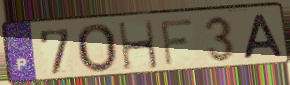3: (203, 14, 237, 65)
7: (38, 27, 72, 77)
A: (241, 13, 286, 62)
F: (158, 17, 196, 68)
H: (116, 19, 160, 73)
O: (74, 23, 119, 75)
